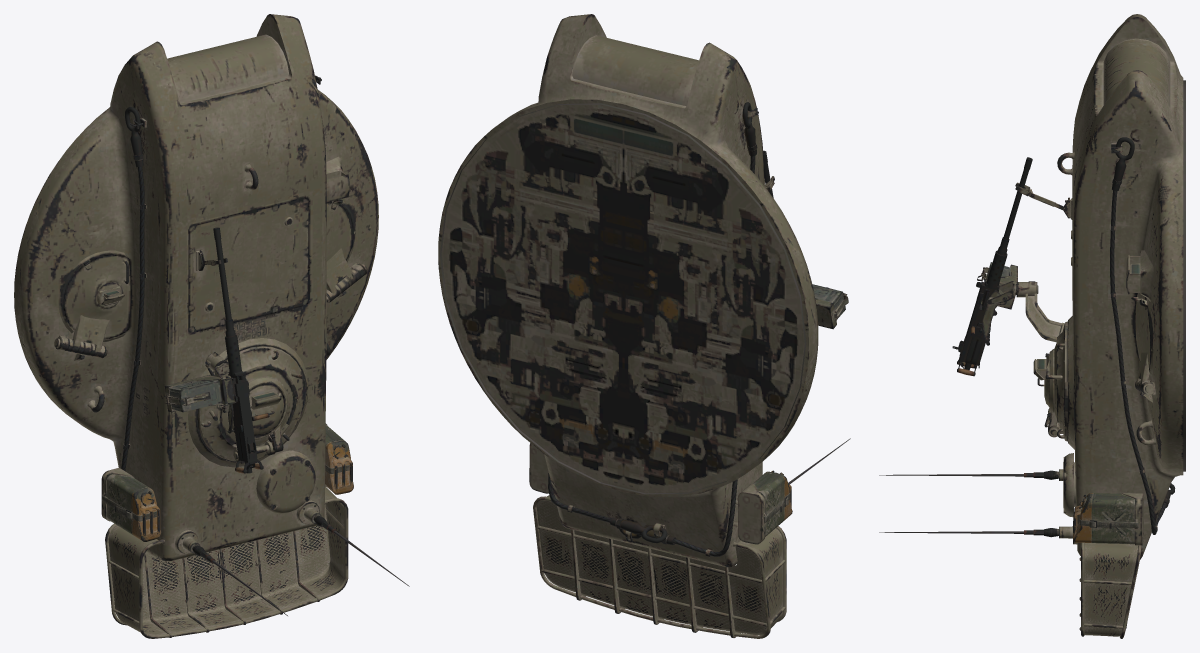
The model's file is Turret_01.glb.
3 views of the same model, side by side, from view 1: azimuth 30°, elevation 25°; view 2: azimuth 150°, elevation 25°; view 3: azimuth 270°, elevation 25° (orthographic). The views are drawn at different scales.
Parts seen in each view (by area): view 1: set_0_group_0; view 2: set_0_group_0; view 3: set_0_group_0.
Boxes of the visible parts, x1,y1,x2,y2 form: set_0_group_0: (14, 14, 409, 638); set_0_group_0: (438, 14, 850, 638); set_0_group_0: (879, 14, 1185, 638).
Size of the model in its own units: 2.7 by 4.18 by 2.08.
1 material, 1 textured.
